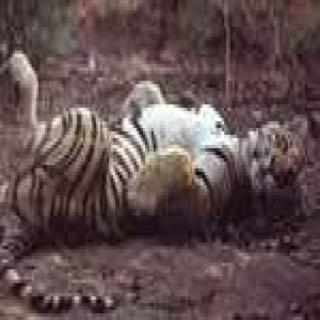Tiger: (0, 41, 313, 316)
